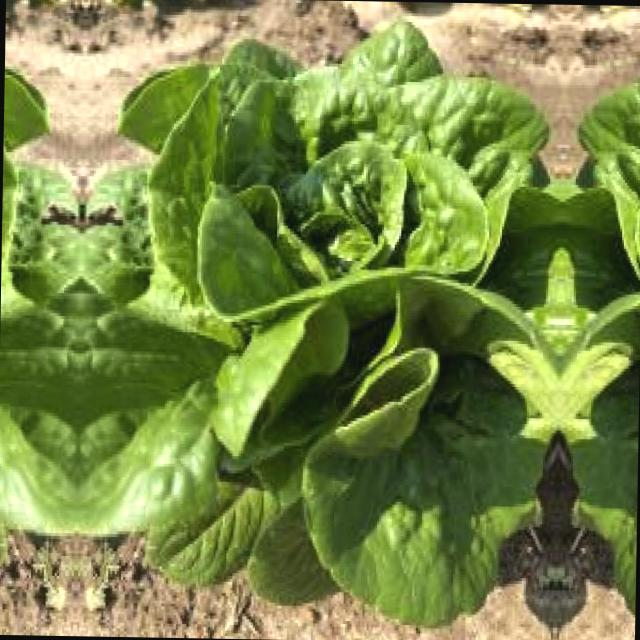healthy: (74, 21, 560, 603), (0, 19, 86, 594), (561, 29, 640, 604)
